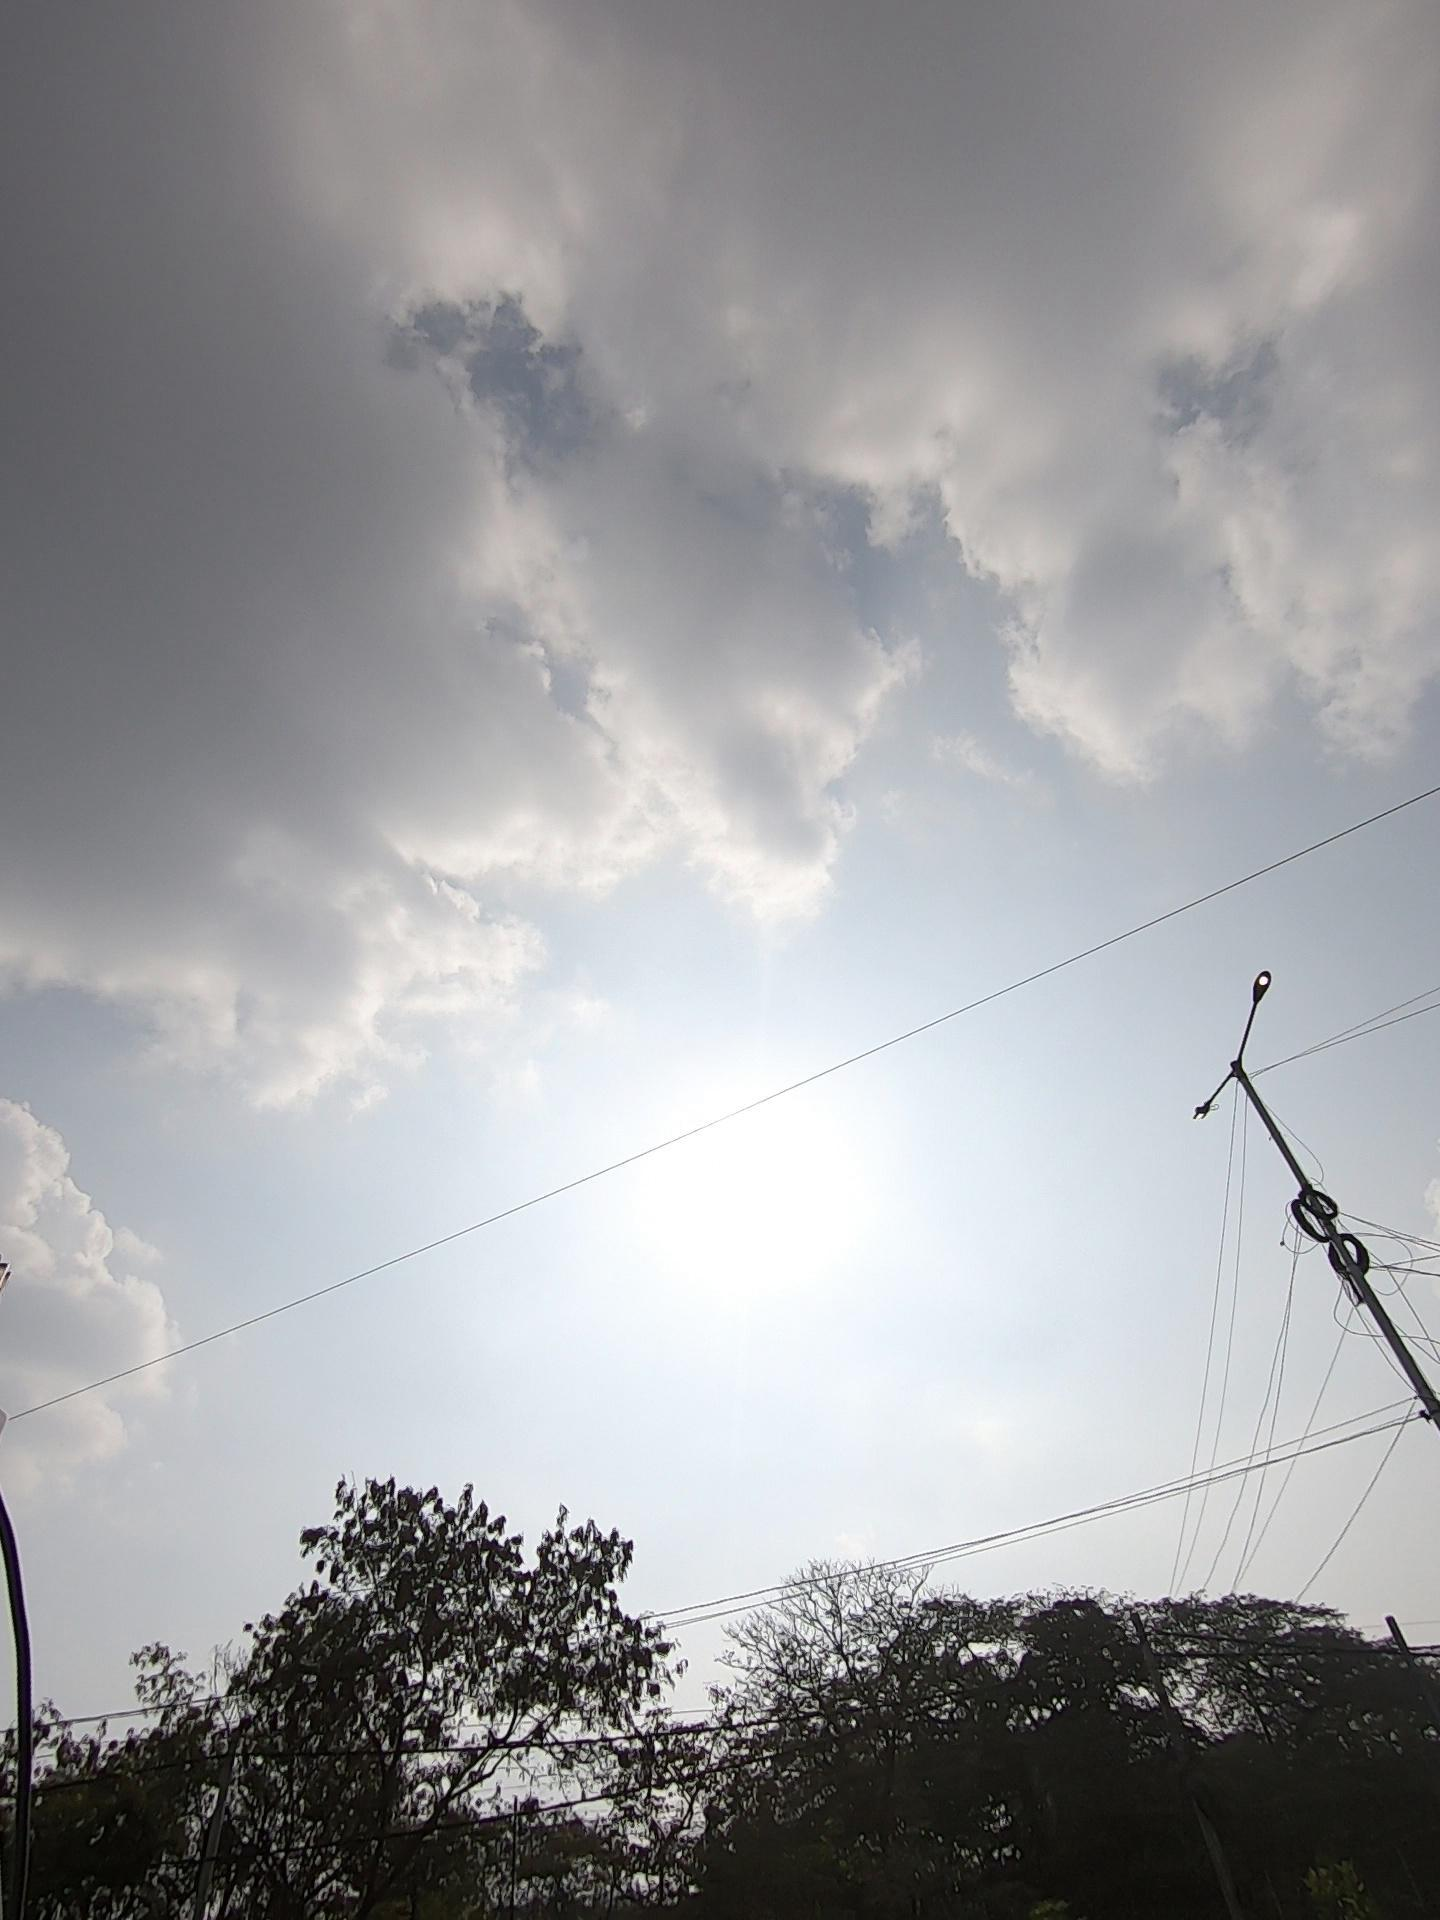off: (1095, 906, 1363, 1176)
